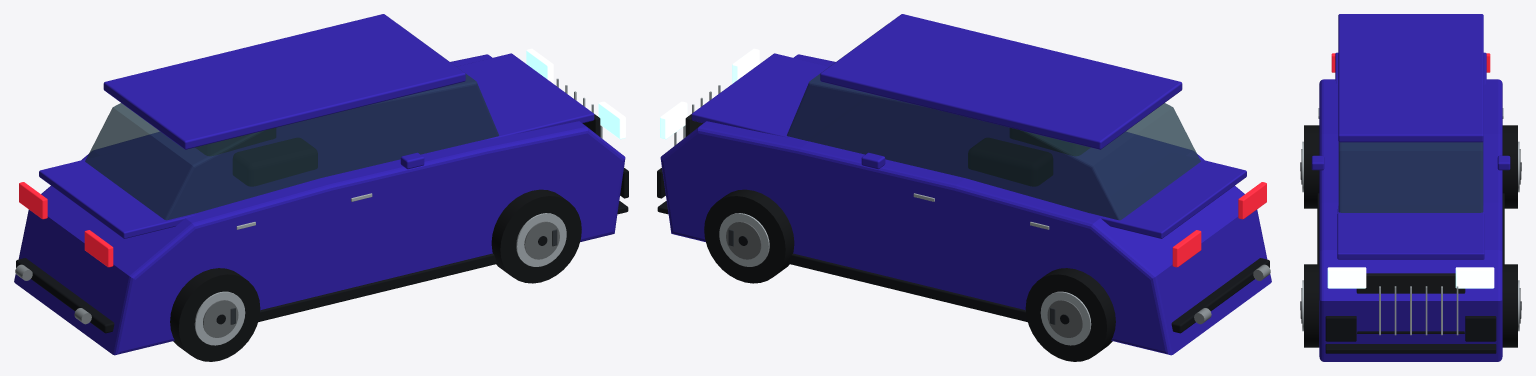
Rendered from ford_transit_connect.glb.
3 views of the same model, side by side, from view 1: azimuth 30°, elevation 25°; view 2: azimuth 150°, elevation 25°; view 3: azimuth 270°, elevation 25° (orthographic). The views are drawn at different scales.
Parts seen in each view (by area): view 1: sculpted_body, glasshouse, roof, hood_center, rear_deck, rear_right_wheel_tire, front_right_wheel_tire, side_skirt_1, seat_1, rear_diffuser, rear_right_wheel_rim, front_right_wheel_rim (+7 smaller); view 2: sculpted_body, glasshouse, roof, hood_center, rear_deck, rear_left_wheel_tire, front_left_wheel_tire, side_skirt_-1, seat_-1, rear_diffuser, rear_left_wheel_rim, front_left_wheel_rim (+7 smaller); view 3: sculpted_body, roof, glasshouse, hood_center, front_grille, front_splitter, front_left_wheel_tire, front_right_wheel_tire, rear_left_wheel_tire, rear_right_wheel_tire, headlight_right, headlight_left (+7 smaller).
Boxes of the visible parts, x1,y1,x2,y2 form: sculpted_body: [14, 54, 625, 355]; glasshouse: [85, 25, 498, 220]; roof: [103, 14, 465, 149]; hood_center: [417, 53, 594, 140]; rear_deck: [39, 153, 198, 238]; rear_right_wheel_tire: [170, 268, 260, 361]; front_right_wheel_tire: [491, 189, 581, 283]; side_skirt_1: [258, 253, 497, 322]; seat_1: [233, 138, 317, 185]; rear_diffuser: [16, 258, 114, 333]; rear_right_wheel_rim: [194, 291, 245, 345]; front_right_wheel_rim: [516, 213, 566, 266]; sculpted_body: [660, 54, 1271, 355]; glasshouse: [787, 25, 1200, 220]; roof: [820, 14, 1182, 149]; hood_center: [691, 53, 868, 140]; rear_deck: [1087, 153, 1246, 238]; rear_left_wheel_tire: [1025, 268, 1115, 361]; front_left_wheel_tire: [704, 189, 794, 283]; side_skirt_-1: [788, 253, 1027, 322]; seat_-1: [968, 138, 1052, 185]; rear_diffuser: [1171, 258, 1269, 333]; rear_left_wheel_rim: [1040, 291, 1091, 345]; front_left_wheel_rim: [719, 213, 769, 266]; sculpted_body: [1319, 79, 1502, 361]; roof: [1338, 14, 1483, 142]; glasshouse: [1338, 142, 1483, 212]; hood_center: [1337, 205, 1484, 259]; front_grille: [1356, 273, 1465, 333]; front_splitter: [1325, 344, 1496, 353]; front_left_wheel_tire: [1502, 264, 1517, 347]; front_right_wheel_tire: [1304, 264, 1319, 347]; rear_left_wheel_tire: [1502, 125, 1517, 208]; rear_right_wheel_tire: [1304, 125, 1319, 208]; headlight_right: [1327, 267, 1366, 288]; headlight_left: [1455, 267, 1494, 288].
Bounding box in the file's own units: 5.66 × 2.1 × 2.28.
